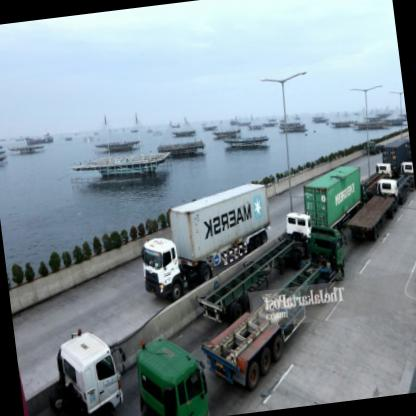truck: (53, 328, 128, 416), (138, 234, 185, 304)
